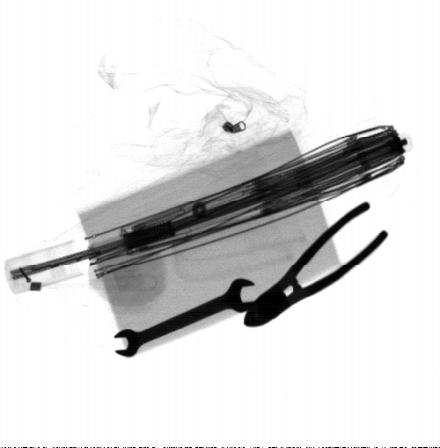Pliers: (243, 198, 392, 328)
Wrench: (114, 277, 262, 359)
